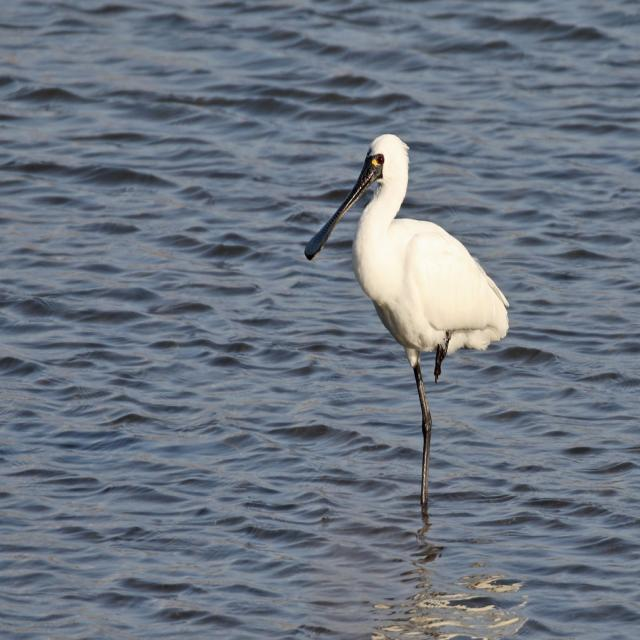Black-faced spoonbill: (306, 135, 508, 505)
